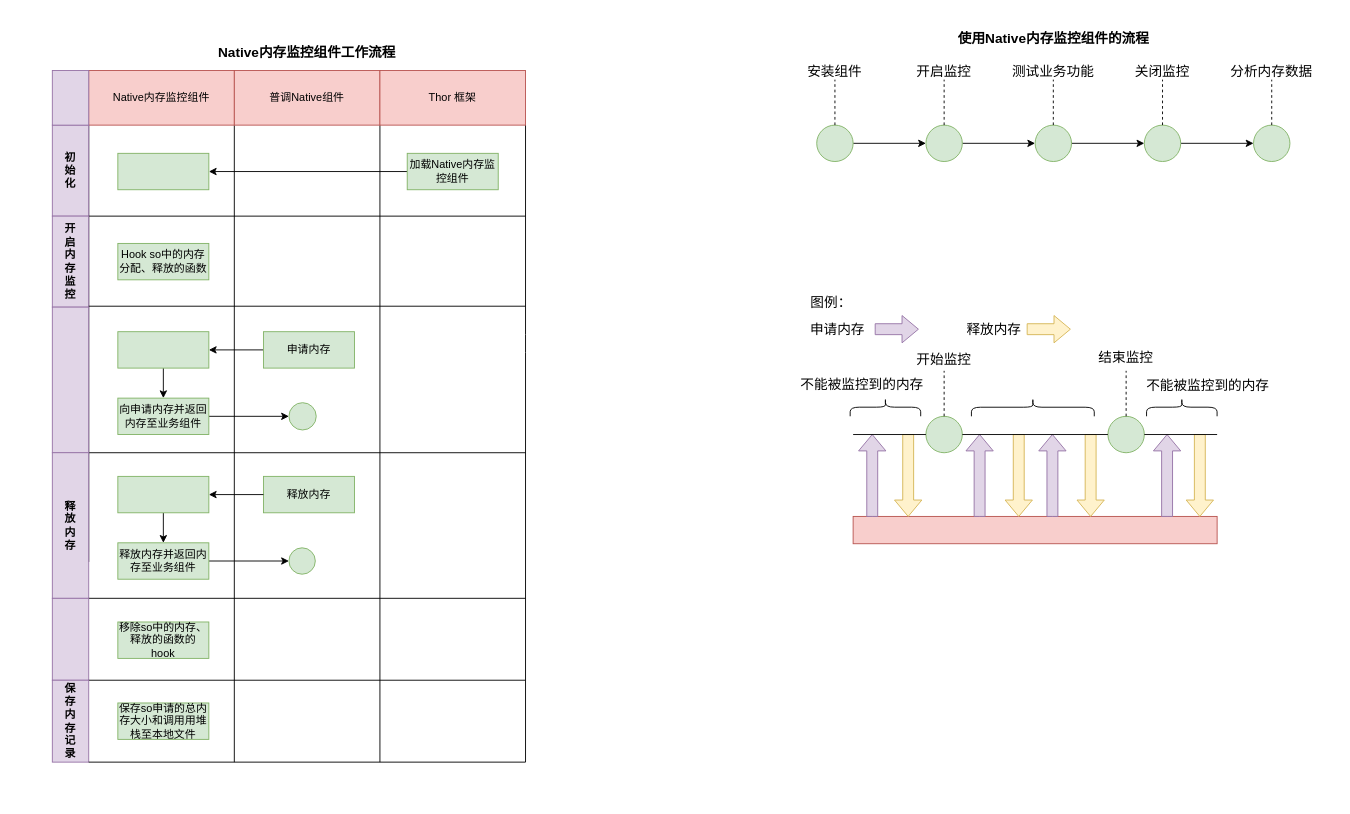
Image size: 1350x814. Some labels were removed from this diagram. Here are the shapes that lost their labels. From the top down, the centre of each, then its label:
(x=70, y=97): 阶段
(x=163, y=171): 注册广播服务
(x=163, y=349): 记录内存的大 小和调用堆栈
(x=70, y=379): 申 请 内 存
(x=1032, y=406): 能被监控到的内存
(x=163, y=494): 移除内存的大小和调用堆栈的记录
(x=1034, y=530): 系统内存
(x=70, y=638): 关 闭 内 存 监 控
